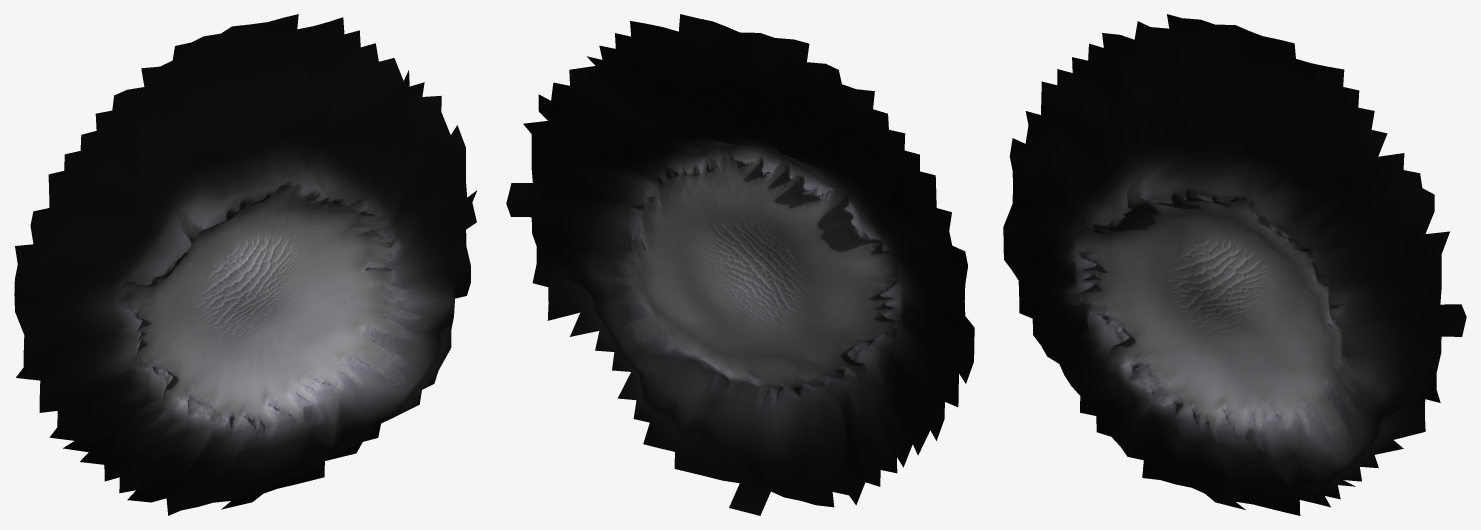
Rendered from outer_space.fbx.
3 views of the same model, side by side, from view 1: azimuth 30°, elevation 25°; view 2: azimuth 150°, elevation 25°; view 3: azimuth 330°, elevation 25° (orthographic).
Visible parts, largest first — view 1: Plane_487; view 2: Plane_487; view 3: Plane_487.
Part boxes in pixels (x1,y1,x2,y2): Plane_487: [14, 14, 476, 515]; Plane_487: [506, 14, 974, 515]; Plane_487: [1003, 14, 1466, 515].
Size of the model in its own units: 561 by 561 by 74.14.
1 material, 1 textured.
